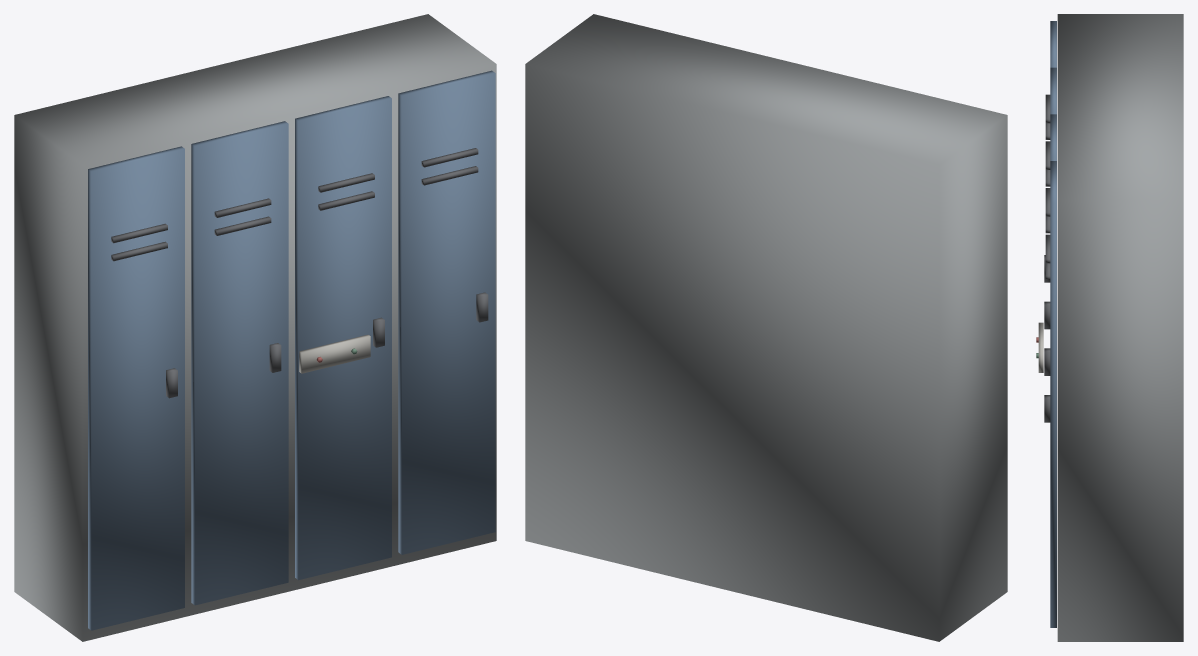
The model's file is locker_bank.glb.
3 views of the same model, side by side, from view 1: azimuth 30°, elevation 25°; view 2: azimuth 150°, elevation 25°; view 3: azimuth 270°, elevation 25° (orthographic). The views are drawn at different scales.
Parts seen in each view (by area): view 1: world; view 2: world; view 3: world.
Part boxes in pixels (x1,y1,x2,y2): world: (14, 14, 496, 641); world: (525, 14, 1007, 641); world: (1036, 14, 1183, 641).
Size of the model in its own units: 1.68 by 1.85 by 0.561.
